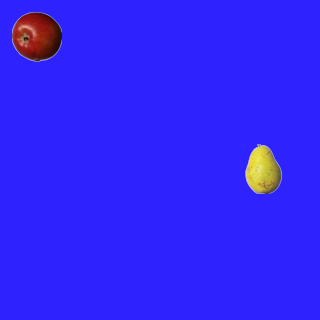Apple Braeburn: (11, 11, 61, 61)
Pear Monster: (238, 143, 288, 193)
